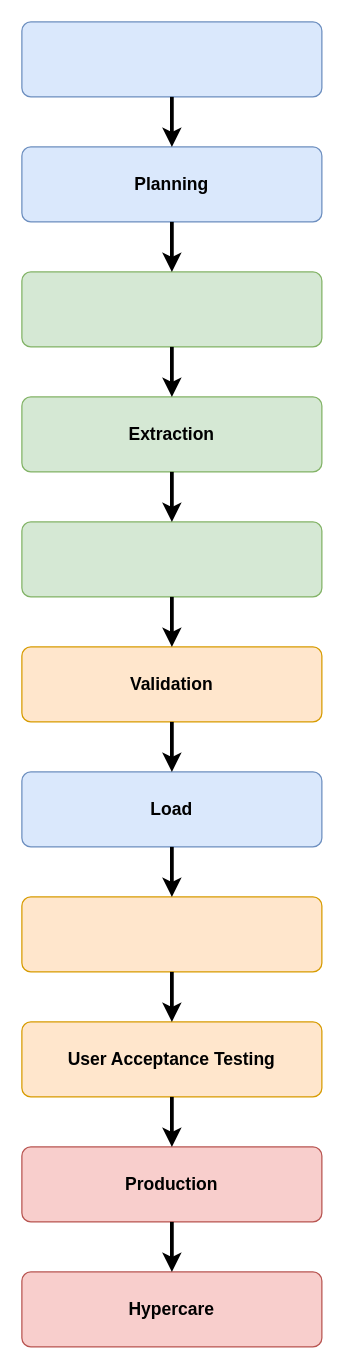
Some shapes in this 344 by 1369 pixel diagram are drawn without their labels. The box of each missing label's shape, as (x1, y1, x2, y2) in pixels:
Data Profiling: (21, 271, 322, 347)
Discovery: (21, 21, 322, 97)
Smoke Testing: (21, 896, 322, 972)
Transformation: (21, 521, 322, 597)
